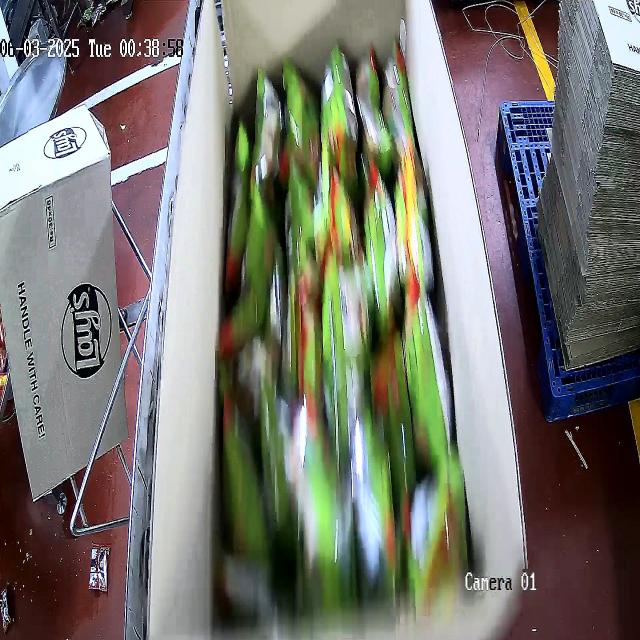YOGURT_HERB: (217, 33, 466, 634)
